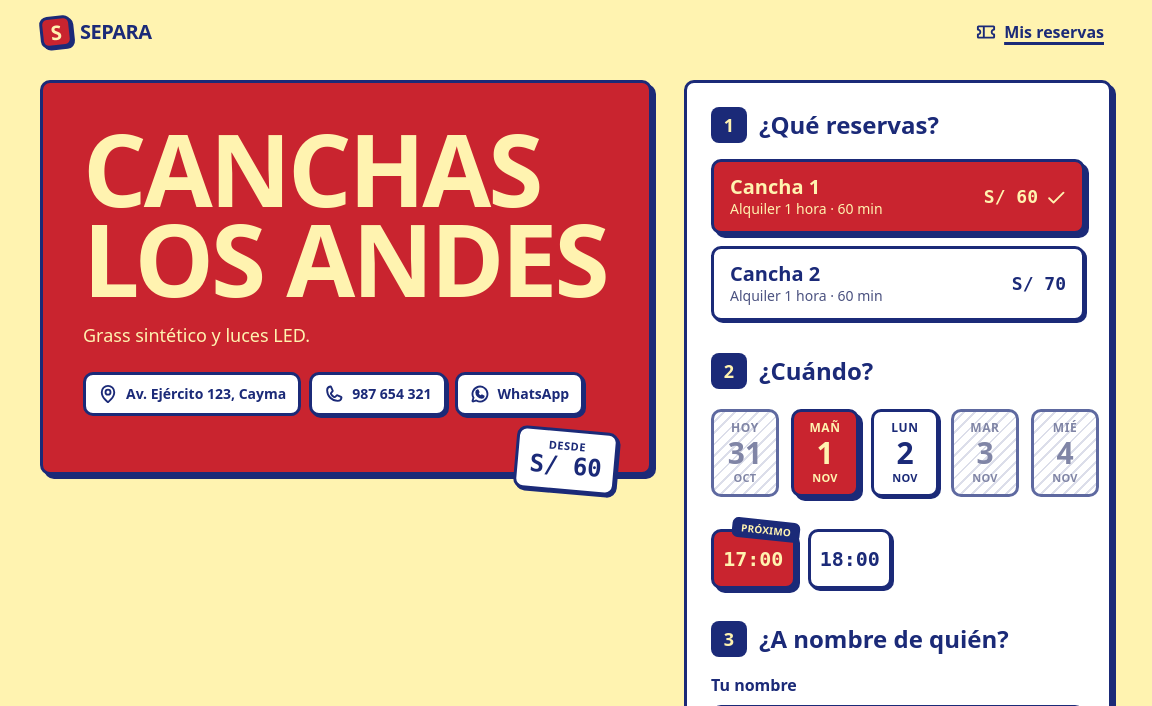
choosing when › shows the slots of another day and asks to pick one
Check: the radio button with aria-label "17:00, el más cercano" is shown, box [711, 529, 796, 589]
Click the radio button labelled "LUN 2 NOV" at (905,453), box [871, 409, 939, 497]
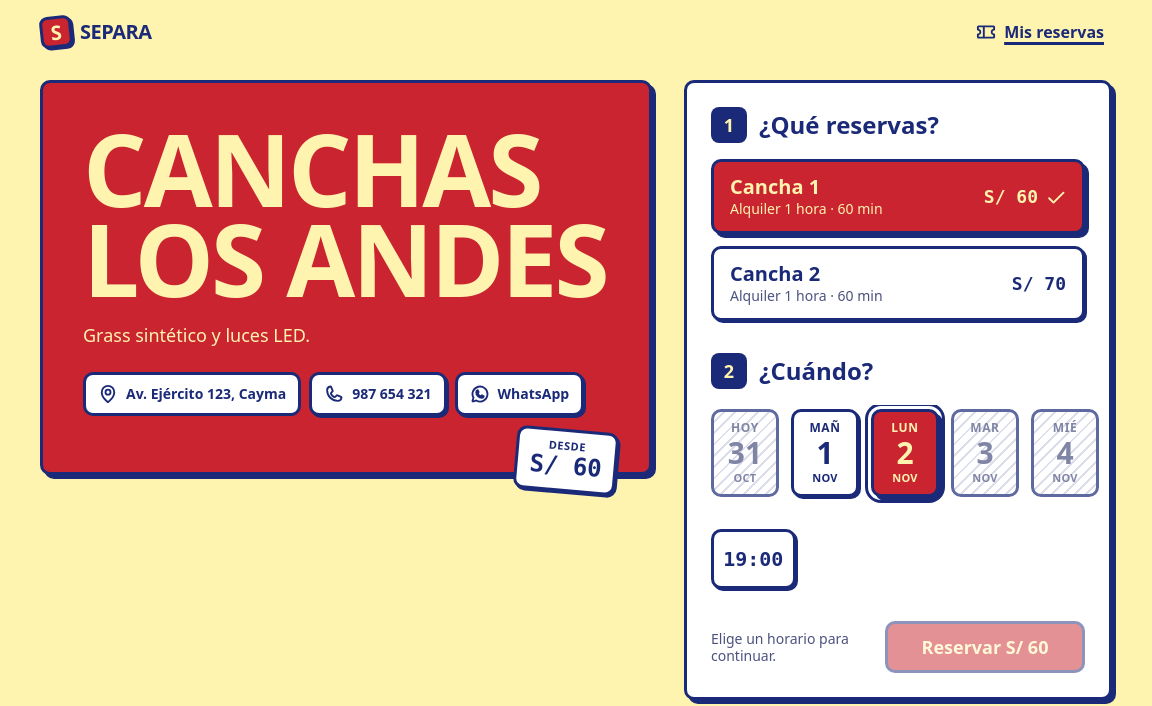
Check: the radio button labelled "19:00" is not checked, box [711, 529, 796, 589]
Check: the button "Reservar S/ 60" is disabled, box [885, 621, 1085, 673]
Check: the label labelled "Tu nombre" is gone
